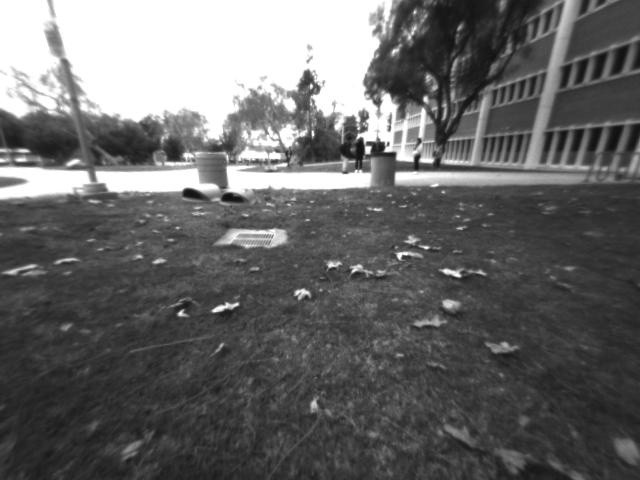trashcan: (198, 152, 232, 191), (371, 151, 399, 188)
